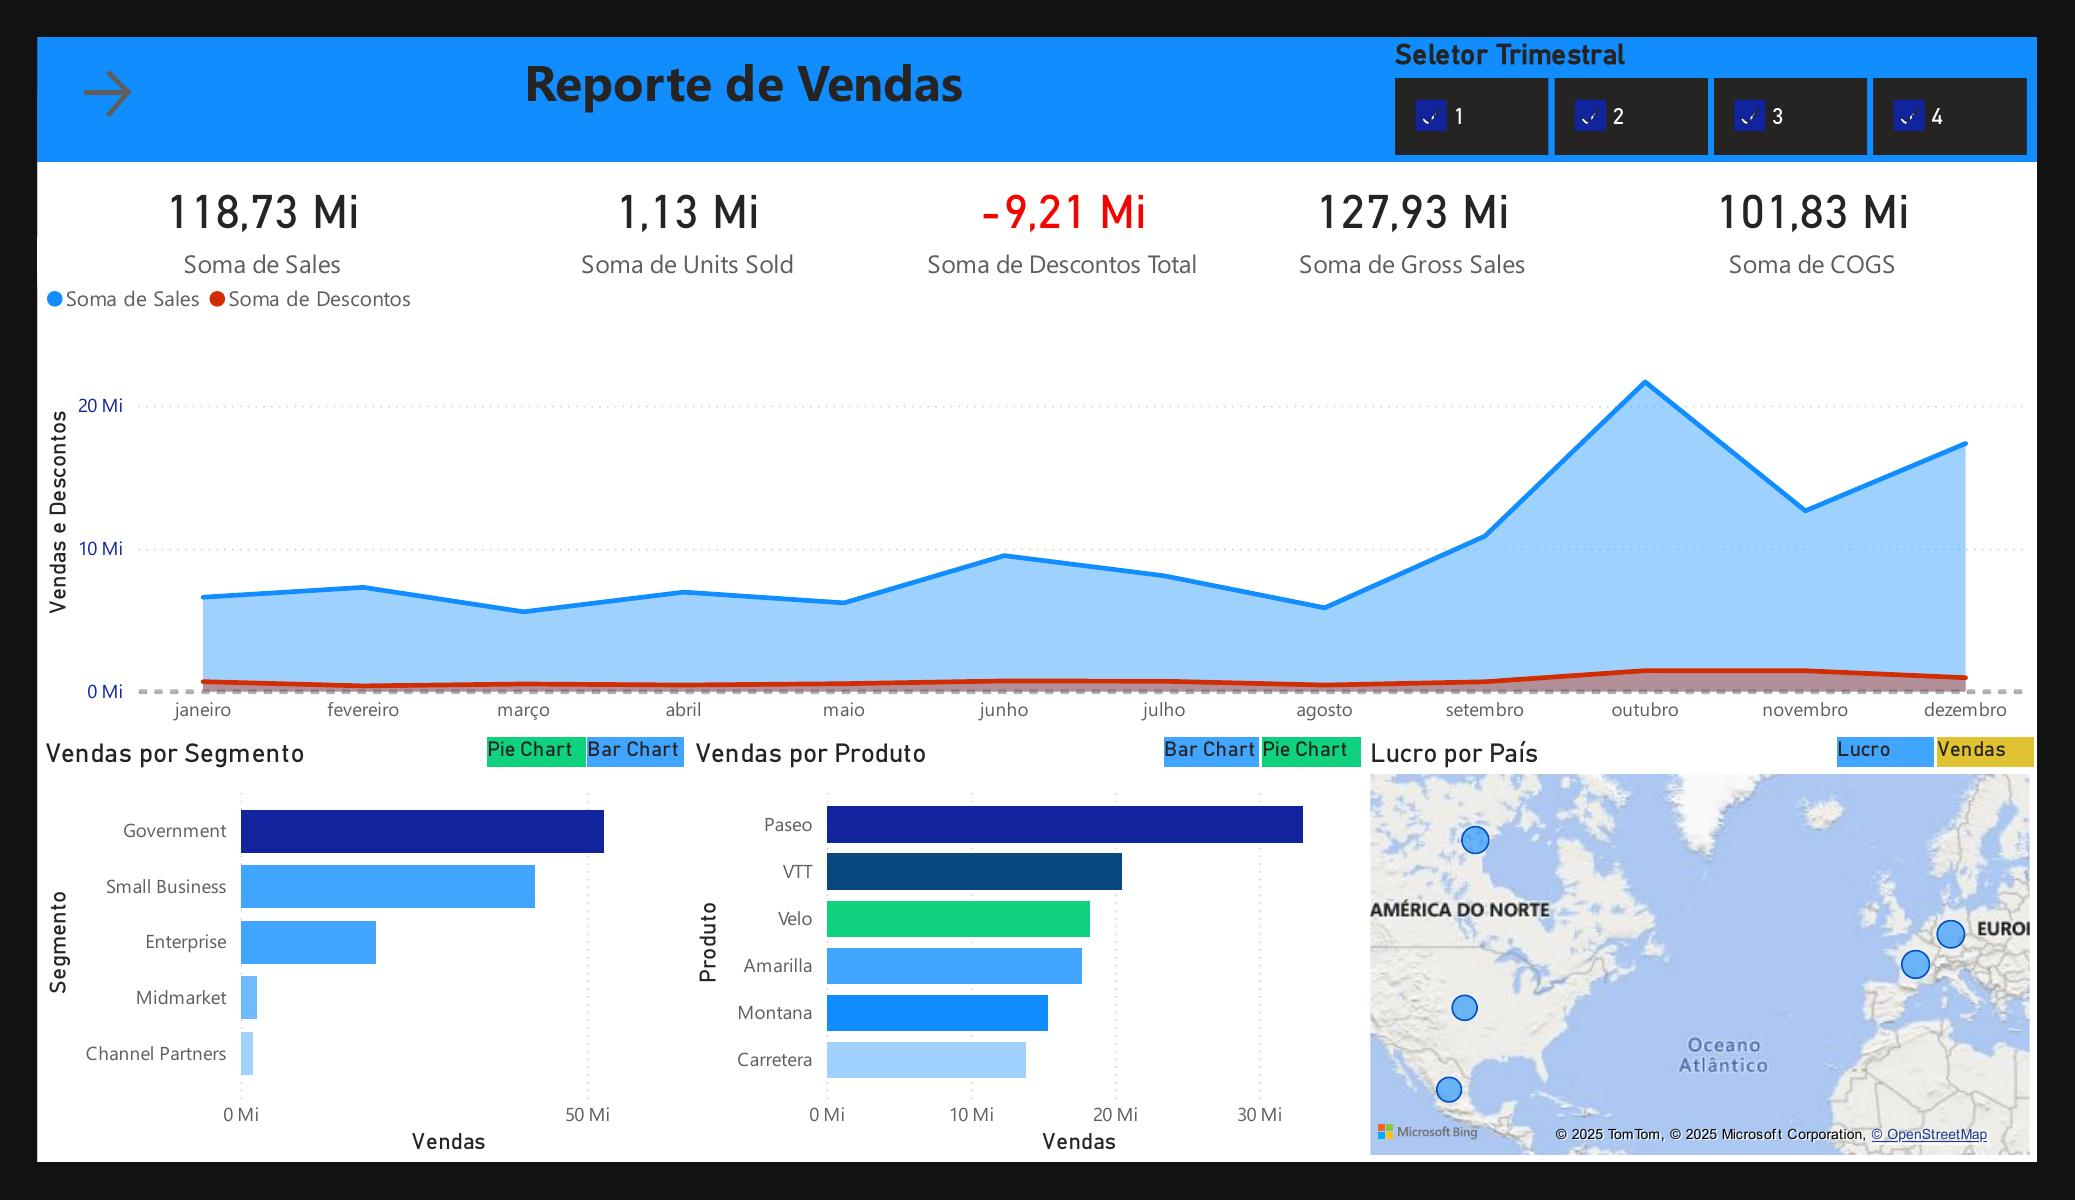

Layout of this report page (visuals, bound fields, positions):
{"tool":"powerbi","page":{"name":"Página 4","canvas":[1280,720],"ordinal":3},"visuals":[{"type":"textbox","title":"Título","box":[0,0,864,80],"z":0,"group":"g5"},{"type":"card","title":"Vendas","fields":{"Values":["Sum(financials.Sales)"]},"box":[0,80,288,80],"z":0,"group":"g4"},{"type":"advancedSlicerVisual","title":"Seletor Trimestral","fields":{"Values":["financials.Date.Variation.Hierarquia de datas.Trimestre"]},"box":[864,0,416,80],"z":1000,"group":"g5"},{"type":"card","title":"Unidades Vendidas","fields":{"Values":["Sum(financials.Units Sold)"]},"box":[288,80,256,80],"z":1000,"group":"g4"},{"type":"clusteredBarChart","title":"Vendas por Segmento","fields":{"Category":["financials.Segment"],"Y":["Sum(financials.Sales)"]},"box":[0.3,448,416,272],"z":1000,"group":"g3"},{"type":"clusteredBarChart","title":"Vendas por Produto","fields":{"Category":["financials.Product"],"Y":["Sum(financials.Sales)"]},"box":[416,448,432,272],"z":1000,"group":"g2"},{"type":"map","title":"Lucro por País","fields":{"Category":["financials.Country"],"Size":["Sum(financials.Profit)"]},"box":[848,448,432,272],"z":1000,"group":"g1"},{"type":"card","title":"Descontos","fields":{"Values":["financials.SomaDescontosNegativa"]},"box":[544,80,224,80],"z":2000,"group":"g4"},{"type":"actionButton","title":"Pie Chart","box":[287.7,447.9,63,19.2],"z":2000,"group":"g3"},{"type":"actionButton","title":"Pie Chart","box":[783.6,447.9,63,19.2],"z":2000,"group":"g2"},{"type":"actionButton","title":"Bar Chart","box":[352.1,447.9,61.6,19.2],"z":2500,"group":"g3"},{"type":"actionButton","title":"Bar Chart","box":[720.5,447.9,61.6,19.2],"z":2500,"group":"g2"},{"type":"card","title":"Gross Sales","fields":{"Values":["Sum(financials.Gross Sales)"]},"box":[768,80,224,80],"z":3000,"group":"g4"},{"type":"card","title":"COGS","fields":{"Values":["Sum(financials.COGS)"]},"box":[992,80,288,80],"z":4000,"group":"g4"},{"type":"actionButton","title":"Lucro","box":[1152.1,447.9,61.6,19.2],"z":5000,"group":"g1"},{"type":"actionButton","title":"Vendas","box":[1216.4,447.9,61.6,19.2],"z":5500,"group":"g1"},{"type":"group","id":"g1","title":"Geo","box":[848,447.9,432,272.1],"z":7000},{"type":"group","id":"g2","title":"Vendas por Produto","box":[400,447.9,448,272.1],"z":8000},{"type":"group","id":"g3","title":"Vendas por Segmento","box":[0,447.9,416.3,272.7],"z":9000},{"type":"areaChart","title":"Vendas e Descontos Mensais","fields":{"Category":["financials.Date.Variation.Hierarquia de datas.Mês"],"Y":["Sum(financials.Sales)","financials.Soma de Descontos"]},"box":[0,128,1280,320],"z":9500},{"type":"group","id":"g4","title":"Cartões","box":[0,80,1280,80],"z":10000},{"type":"group","id":"g5","title":"Título e Seletor Trimestral","box":[0,0,1280,80],"z":11000},{"type":"actionButton","box":[24,16,96,40],"z":11001}]}

Visuals, with their boxes on the page's 1280x720 design canvas (x1, y1, x2, y2). These are canvas units, not pixel positions in the 2075x1200 screenshot, which may show the page scaled, cropped or inside an application window:
"Título" textbox: bbox=(0, 0, 864, 80)
"Vendas" card: bbox=(0, 80, 288, 160)
"Seletor Trimestral" advancedSlicerVisual: bbox=(864, 0, 1280, 80)
"Unidades Vendidas" card: bbox=(288, 80, 544, 160)
"Vendas por Segmento" clusteredBarChart: bbox=(0, 448, 416, 720)
"Vendas por Produto" clusteredBarChart: bbox=(416, 448, 848, 720)
"Lucro por País" map: bbox=(848, 448, 1280, 720)
"Descontos" card: bbox=(544, 80, 768, 160)
"Pie Chart" actionButton: bbox=(288, 448, 351, 467)
"Pie Chart" actionButton: bbox=(784, 448, 847, 467)
"Bar Chart" actionButton: bbox=(352, 448, 414, 467)
"Bar Chart" actionButton: bbox=(720, 448, 782, 467)
"Gross Sales" card: bbox=(768, 80, 992, 160)
"COGS" card: bbox=(992, 80, 1280, 160)
"Lucro" actionButton: bbox=(1152, 448, 1214, 467)
"Vendas" actionButton: bbox=(1216, 448, 1278, 467)
"Geo" group: bbox=(848, 448, 1280, 720)
"Vendas por Produto" group: bbox=(400, 448, 848, 720)
"Vendas por Segmento" group: bbox=(0, 448, 416, 721)
"Vendas e Descontos Mensais" areaChart: bbox=(0, 128, 1280, 448)
"Cartões" group: bbox=(0, 80, 1280, 160)
"Título e Seletor Trimestral" group: bbox=(0, 0, 1280, 80)
actionButton: bbox=(24, 16, 120, 56)
